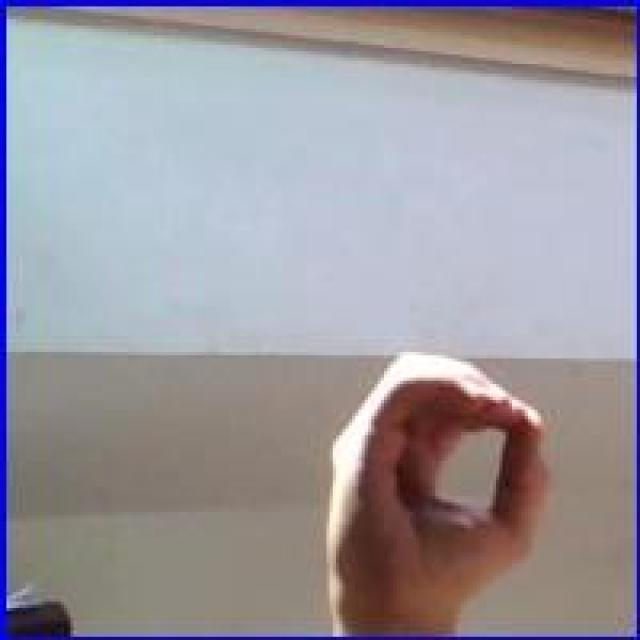O: (318, 347, 552, 632)
